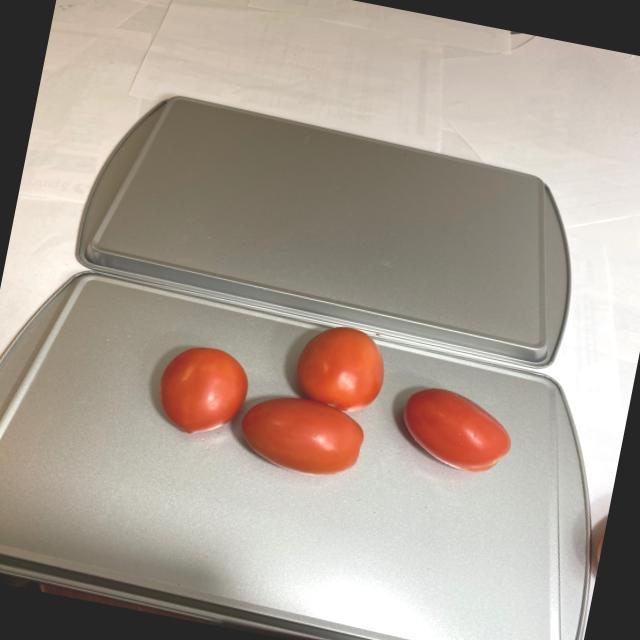tomato: (143, 295, 530, 512)
